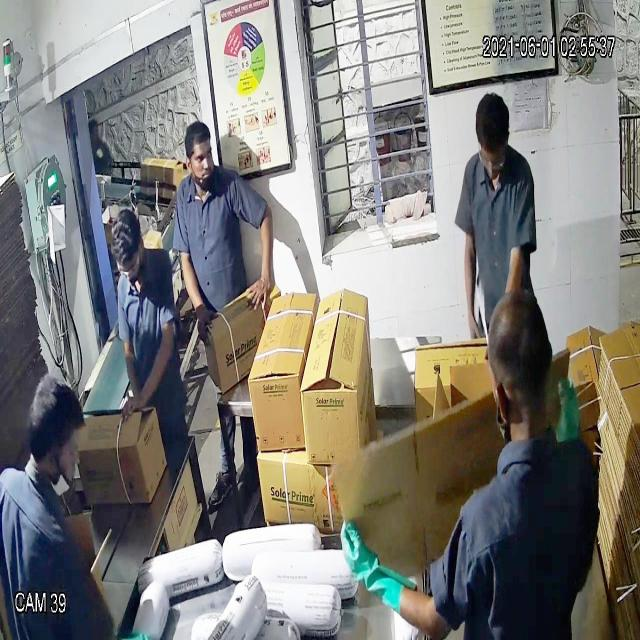glasses: (474, 139, 510, 176), (113, 254, 145, 284)
